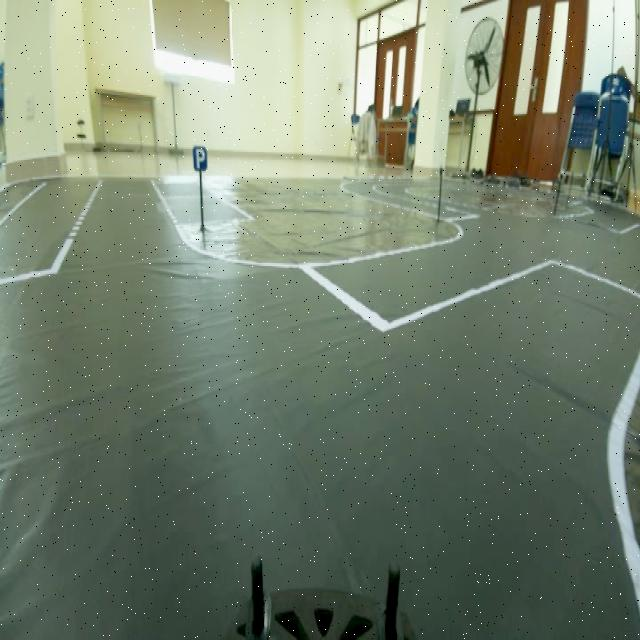parking: (189, 144, 213, 174)
